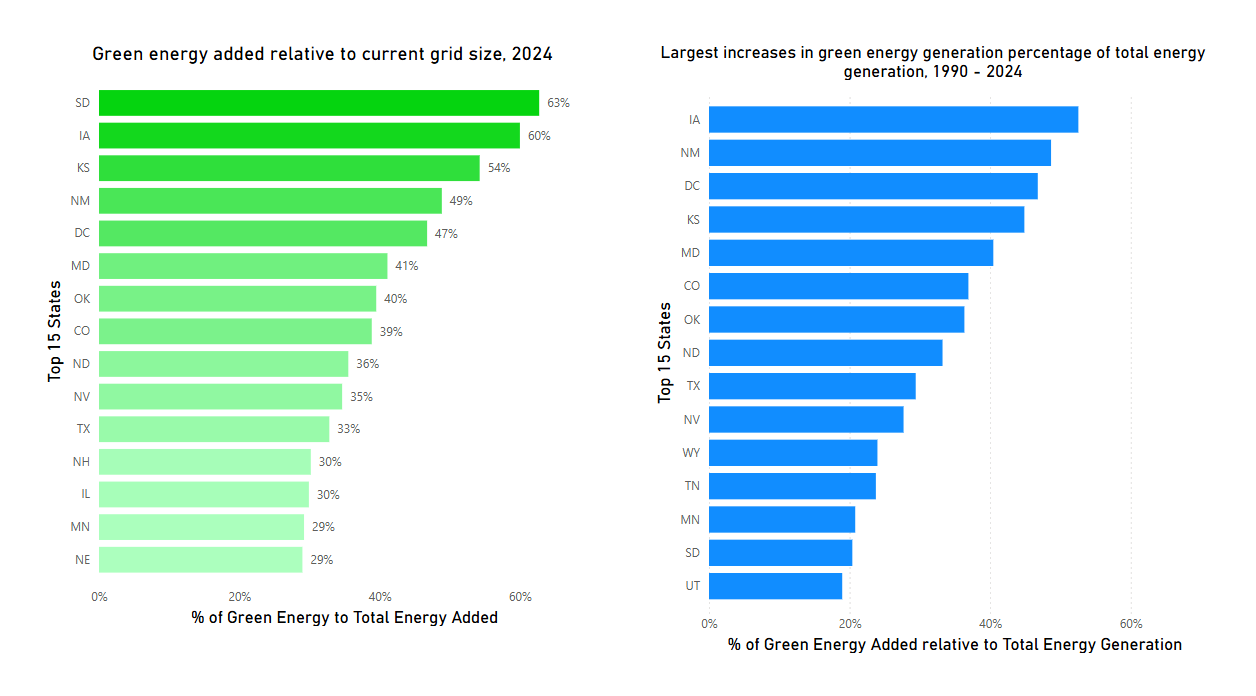

The page's visual inventory and layout, read from the dashboard file:
{"tool":"powerbi","page":{"name":"Page 4","canvas":[1280,720],"ordinal":3},"visuals":[{"type":"clusteredBarChart","title":"Green energy added relative to current grid size, 2024","fields":{"Category":["state_summary.STATE"],"Y":["Sum(state_summary.MWH_ADDED_PER_TOTAL)"]},"box":[49.9,52.7,568.6,589.7],"z":0},{"type":"clusteredBarChart","title":"Largest increases in green energy generation percentage of total energy generation, 1990 - 2024","fields":{"Category":["state_summary.STATE"],"Y":["Sum(state_summary.PP_CHANGE)"]},"box":[659.7,52.7,569.5,616.5],"z":1000}]}

Visuals, with their boxes in screenshot pixels (x1, y1, x2, y2), scaled from the page's 1280x720 canvas onto the 1256x696 screenshot:
"Green energy added relative to current grid size, 2024" clusteredBarChart: (left=49, top=51, right=607, bottom=621)
"Largest increases in green energy generation percentage of total energy generation, 1990 - 2024" clusteredBarChart: (left=647, top=51, right=1206, bottom=647)
